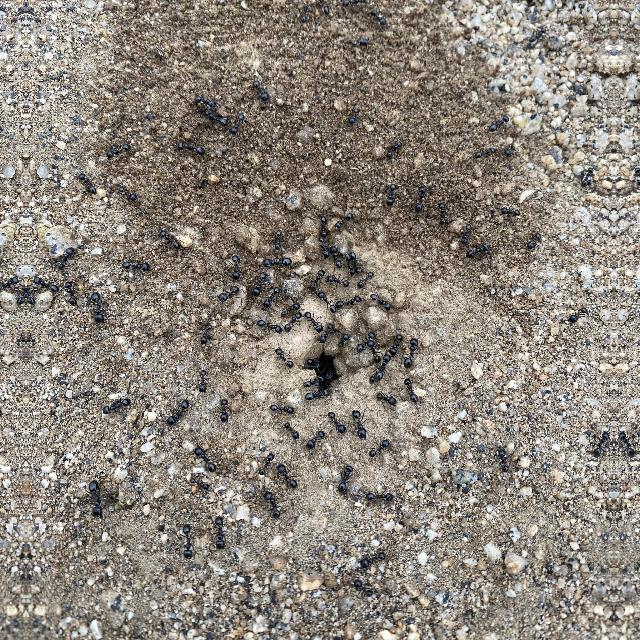Messor: (192, 440, 218, 476), (100, 391, 132, 419), (164, 393, 190, 427), (208, 510, 228, 548), (344, 574, 374, 598), (85, 482, 105, 518), (85, 290, 106, 324), (177, 522, 195, 560), (119, 255, 153, 275), (366, 434, 392, 460), (308, 287, 334, 313), (214, 278, 238, 306), (260, 490, 282, 520), (276, 460, 298, 490), (302, 428, 328, 452), (101, 139, 132, 159), (51, 244, 73, 272), (321, 270, 349, 292), (171, 138, 205, 156), (332, 464, 352, 494), (366, 484, 396, 504), (256, 449, 276, 478), (462, 242, 491, 262), (353, 268, 377, 292), (324, 408, 346, 434), (587, 432, 609, 458), (617, 432, 639, 458), (260, 250, 290, 268), (248, 80, 272, 102), (372, 390, 398, 410), (202, 108, 228, 128), (278, 416, 300, 439), (255, 317, 283, 335), (347, 410, 365, 438), (357, 552, 387, 568), (304, 384, 328, 404), (400, 378, 420, 402), (387, 326, 403, 356), (302, 353, 326, 373), (382, 182, 398, 212), (412, 182, 428, 212), (375, 354, 393, 380), (249, 270, 267, 296), (31, 276, 57, 294), (343, 251, 361, 277), (486, 112, 509, 132), (264, 400, 296, 414), (308, 262, 324, 290), (314, 212, 330, 240), (272, 344, 292, 366), (566, 306, 588, 326), (370, 291, 392, 311), (356, 330, 374, 354), (523, 228, 541, 252), (228, 112, 246, 136), (197, 320, 211, 350), (332, 294, 362, 308), (77, 172, 96, 194), (189, 92, 215, 108), (260, 287, 280, 307), (304, 310, 322, 332), (283, 312, 301, 334), (214, 396, 228, 424), (404, 339, 418, 367), (434, 200, 448, 228), (62, 281, 78, 305), (330, 245, 346, 269), (458, 220, 472, 246), (0, 275, 19, 294), (332, 212, 352, 230), (278, 302, 300, 318), (156, 232, 178, 248), (194, 370, 208, 394), (228, 256, 242, 280), (348, 248, 362, 272), (24, 284, 38, 308), (12, 284, 26, 308), (318, 322, 334, 342), (386, 138, 402, 158), (184, 476, 210, 488), (270, 228, 282, 254), (365, 368, 381, 386), (335, 332, 351, 350), (366, 340, 380, 360), (116, 186, 136, 200), (580, 165, 594, 185), (476, 144, 496, 158), (301, 376, 323, 388), (498, 204, 520, 216), (316, 238, 329, 258), (496, 448, 508, 469), (502, 139, 516, 157), (346, 106, 360, 124), (631, 165, 640, 185)
